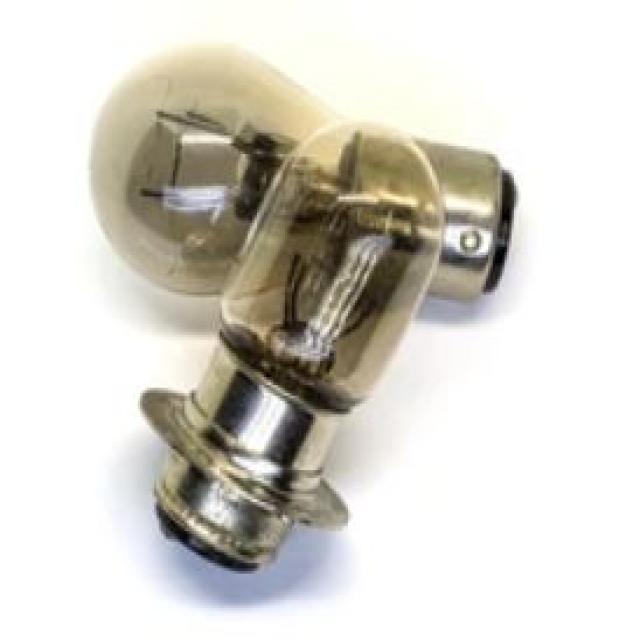electronic: (86, 37, 516, 571), (84, 38, 339, 298)
